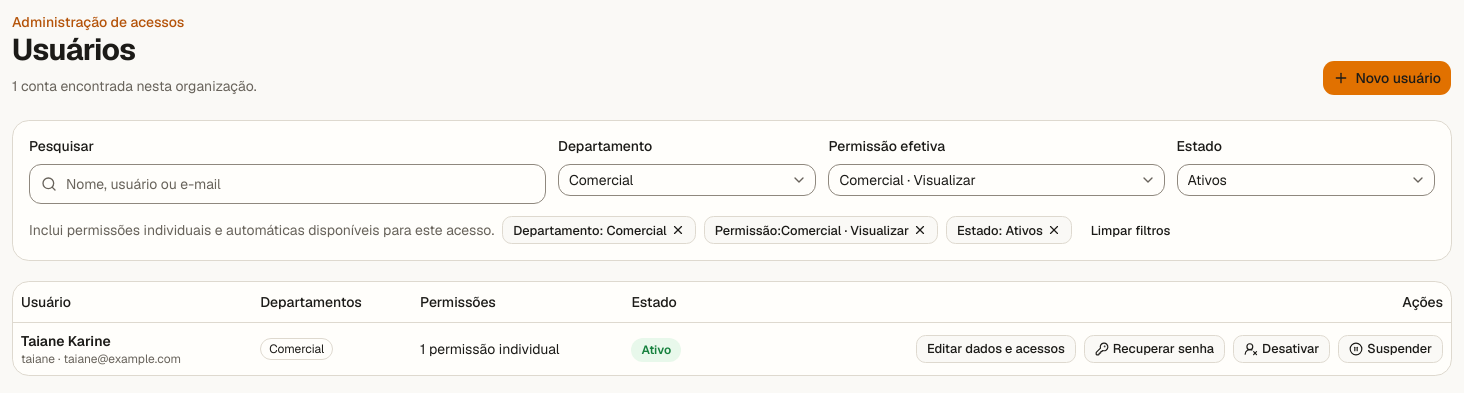
it: users management permissions › keeps every select controlled when all filters are cleared
The width and height of the screenshot is (1464, 393).
Click the button "Limpar filtros" at point(1131, 230), box x1=1080 y1=216 x2=1181 y2=244
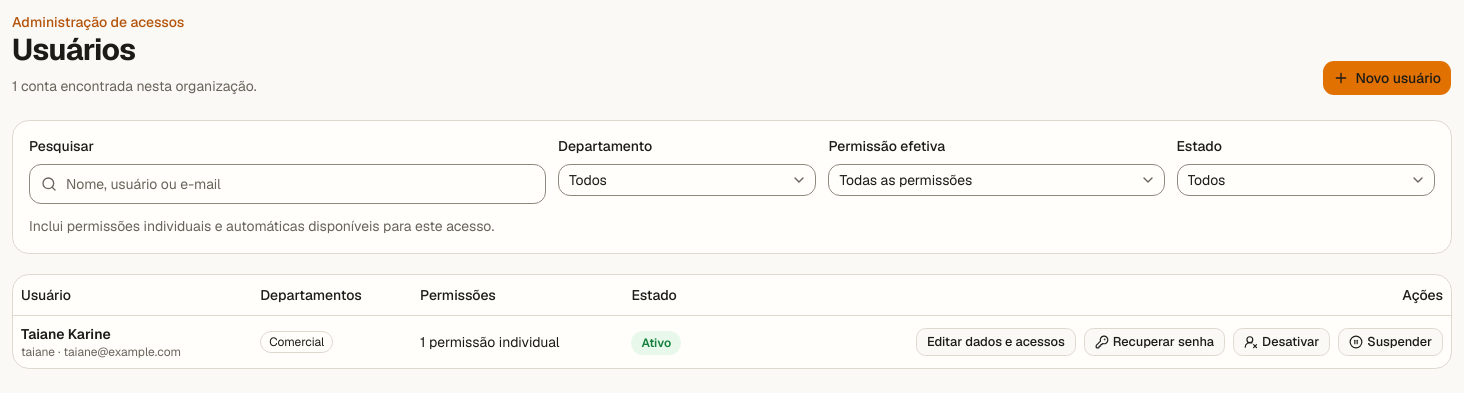
Check: the dropdown named "Departamento" shows "Todos", box x1=558 y1=164 x2=816 y2=196
Check: the dropdown named "Permissão efetiva" shows "Todas as permissões", box x1=828 y1=164 x2=1164 y2=196
Check: the dropdown named "Estado" shows "Todos", box x1=1176 y1=164 x2=1435 y2=196
